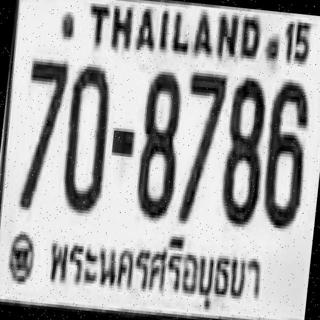N00: (59, 61, 114, 213)
N06: (259, 78, 311, 227)
N07: (15, 55, 69, 210), (174, 68, 226, 224), (18, 56, 68, 184)
N08: (217, 74, 270, 225), (132, 68, 184, 218)
P03: (39, 216, 272, 317)
